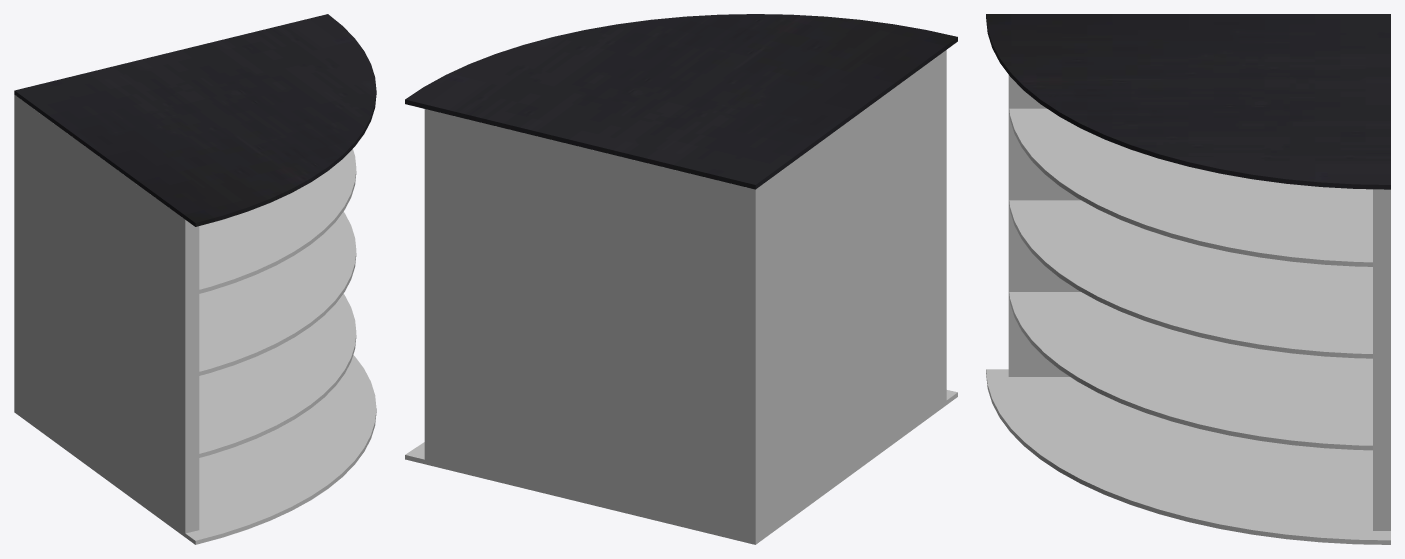
The model's file is sh-lp-angolo160-w.glb.
3 renders of one model, left to right at view 1: azimuth 30°, elevation 25°; view 2: azimuth 150°, elevation 25°; view 3: azimuth 270°, elevation 25°, orthographic. The views are drawn at different scales.
Parts seen in each view (by area): view 1: Line59_3, Cylinder60_1, Cylinder57_6; view 2: Line59_3, Cylinder57_6, Cylinder60_1; view 3: Cylinder60_1, Cylinder57_6, Line59_3.
Boxes of the visible parts, <box> form: Line59_3: <box>14,95,199,533</box>; Cylinder60_1: <box>14,149,376,544</box>; Cylinder57_6: <box>14,14,376,226</box>; Line59_3: <box>424,50,946,540</box>; Cylinder57_6: <box>405,14,957,189</box>; Cylinder60_1: <box>405,390,957,544</box>; Cylinder60_1: <box>986,108,1390,544</box>; Cylinder57_6: <box>986,14,1390,189</box>; Line59_3: <box>1008,75,1390,530</box>.
Size of the model in its own units: 1 by 1 by 1.
3 materials, 1 textured.
